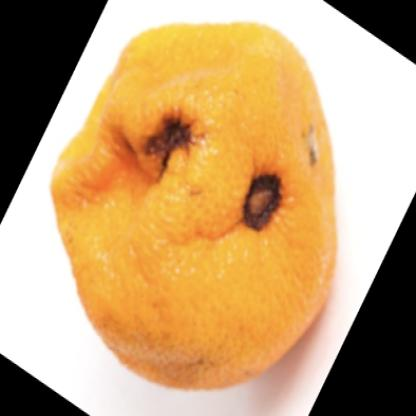rotten: (51, 23, 340, 394)
